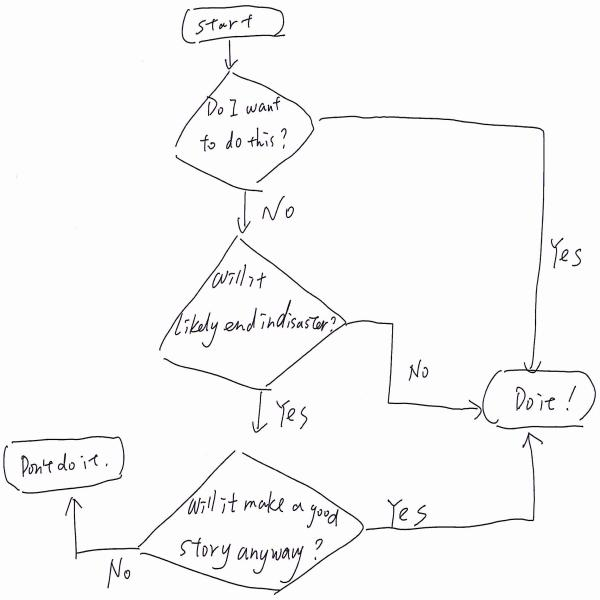arrow: (319, 107, 552, 371), (366, 433, 541, 537), (351, 315, 478, 422), (61, 497, 141, 576), (249, 390, 267, 444), (222, 38, 238, 74), (239, 191, 251, 237)
data: (167, 68, 325, 196)
decision: (131, 444, 372, 599), (153, 231, 353, 397)
terminator: (0, 432, 130, 496), (479, 362, 596, 426), (176, 0, 287, 43)
text: (171, 261, 342, 339), (173, 493, 342, 562), (200, 90, 293, 158), (18, 444, 117, 483), (510, 376, 584, 420), (272, 390, 312, 438), (258, 188, 301, 224), (547, 237, 588, 272), (193, 11, 257, 32), (386, 500, 433, 525), (104, 553, 134, 589), (407, 352, 435, 388)
